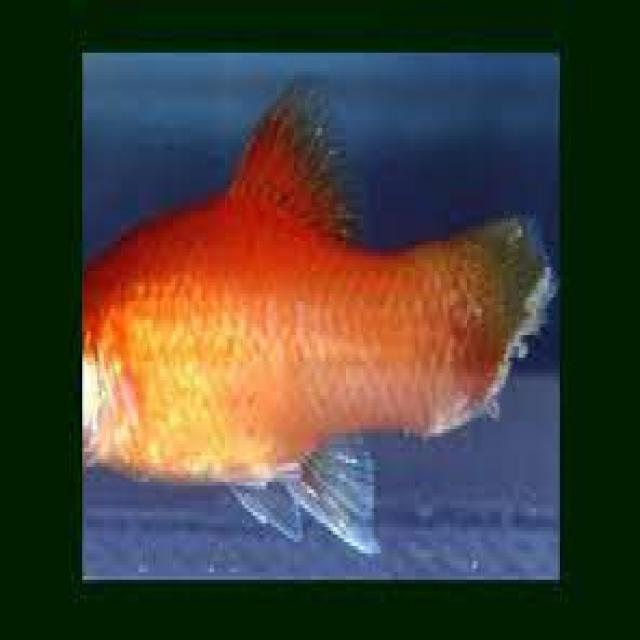EUS Disease: (82, 87, 554, 557)
